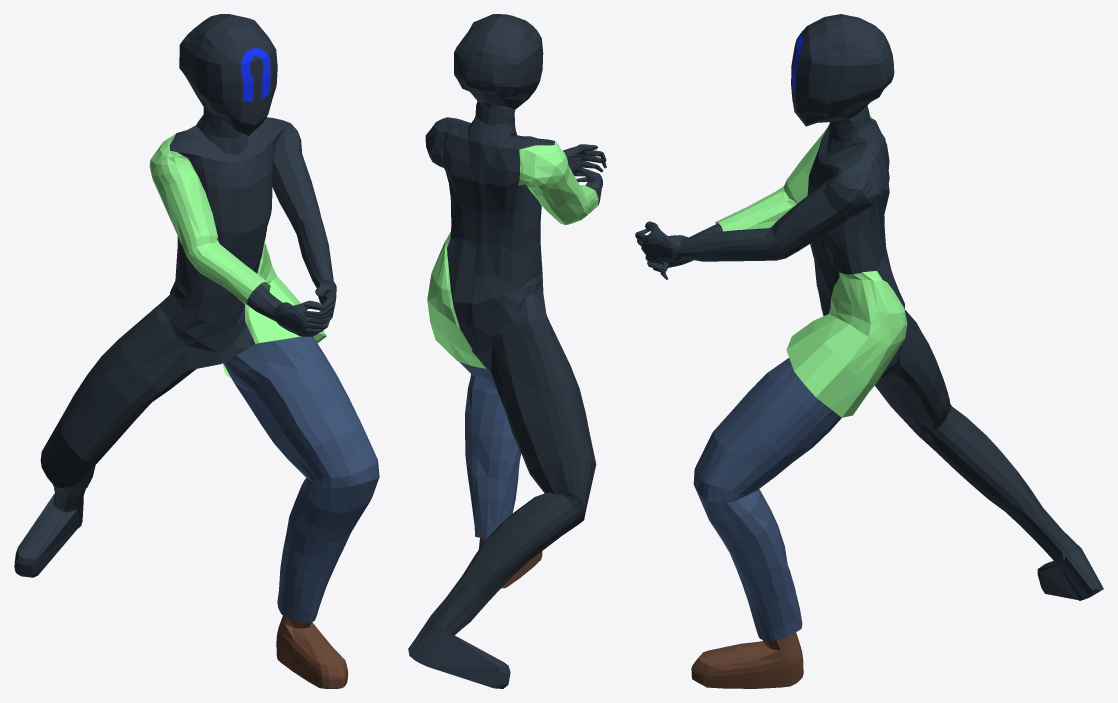
The model's file is Mar_WB_000010.obj.
3 views of the same model, side by side, from view 1: azimuth 30°, elevation 25°; view 2: azimuth 150°, elevation 25°; view 3: azimuth 270°, elevation 25° (orthographic). The views are drawn at different scales.
Parts seen in each view (by area): view 1: Cube.000_Cube.001; view 2: Cube.000_Cube.001; view 3: Cube.000_Cube.001.
Part boxes in pixels (x1=…): Cube.000_Cube.001: x1=14, y1=14, x2=379, y2=688; Cube.000_Cube.001: x1=408, y1=14, x2=606, y2=688; Cube.000_Cube.001: x1=635, y1=14, x2=1103, y2=688.
Size of the model in its own units: 1.31 by 3.52 by 2.31.
